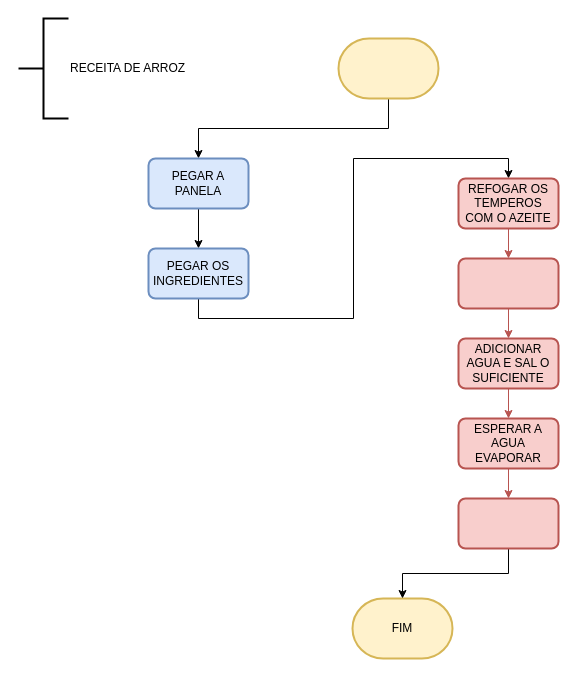
The diagram is 576 pixels wide and 676 high, and some of its shapes have lost their labels. Each missing label, with the box of its shape:
DESLIGAR O FOGÃO: (457, 497, 559, 549)
INICIO: (337, 37, 439, 99)
MISTURAR O REFOGADO COM O ARROZ: (457, 257, 559, 309)
